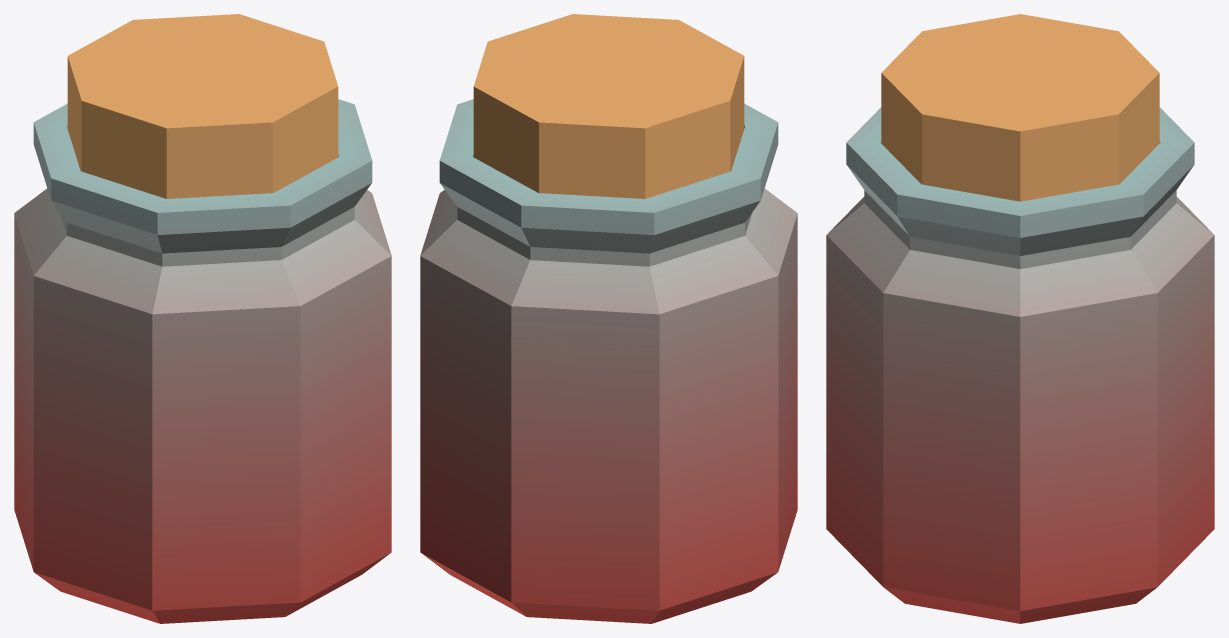
The model's file is JarSmall.fbx.
3 views of the same model, side by side, from view 1: azimuth 30°, elevation 25°; view 2: azimuth 150°, elevation 25°; view 3: azimuth 270°, elevation 25° (orthographic).
Visible parts, largest first — view 1: JarSmall; view 2: JarSmall; view 3: JarSmall.
Part boxes in pixels (bbox=[...]): JarSmall: bbox=[14, 14, 391, 623]; JarSmall: bbox=[420, 14, 797, 623]; JarSmall: bbox=[826, 14, 1214, 623].
Size of the model in its own units: 9.3 by 12.76 by 9.3.
